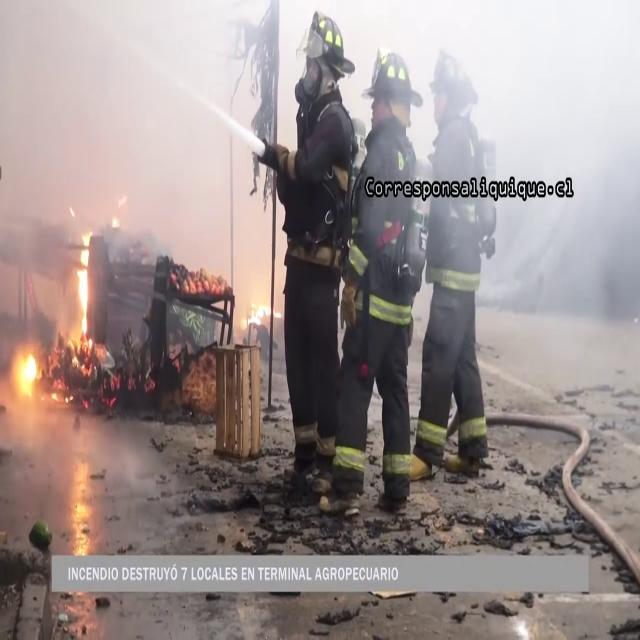Fire: (70, 228, 96, 356), (12, 342, 42, 399)
Smoke: (378, 0, 640, 368)
